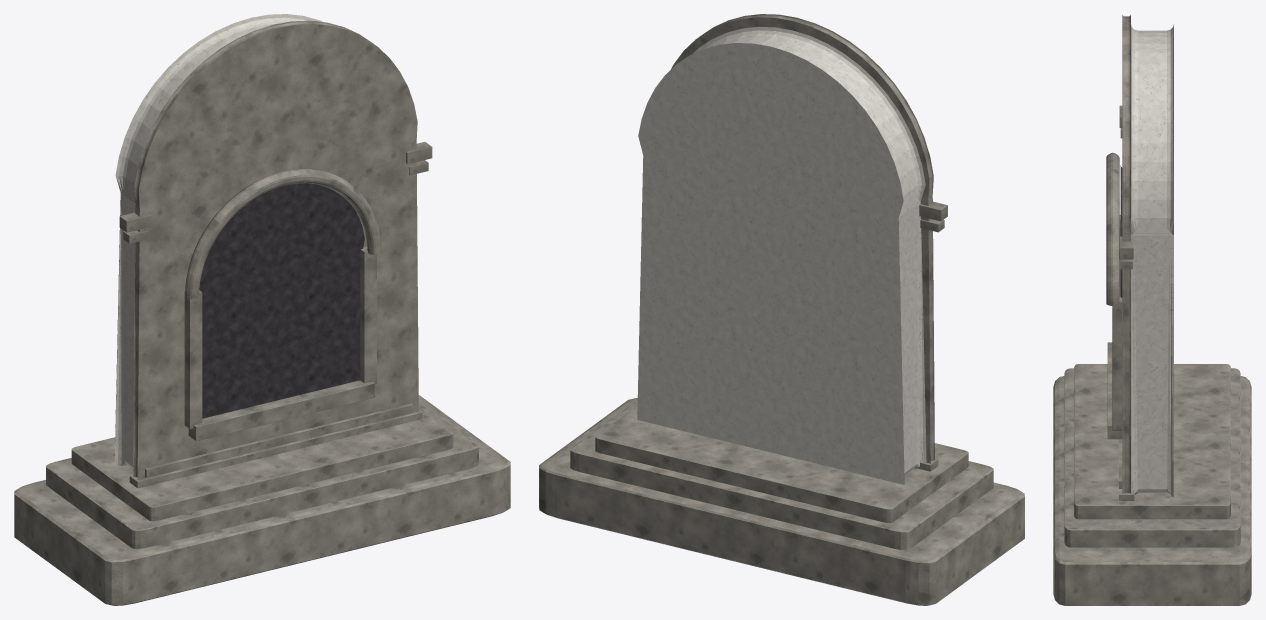
File: tumba.obj
The picture shows the model from 3 angles, left to right: view 1: azimuth 30°, elevation 25°; view 2: azimuth 150°, elevation 25°; view 3: azimuth 270°, elevation 25°; orthographic projection. The views are drawn at different scales.
Parts seen in each view (by area): view 1: Marco_exterior, Nicho_central, Base_inferior.001, Base_superior, Base_intermedia, Lapida_principal, Moldura_curva_del_nicho, Repisa_del_nicho, Moldura_inferior_2, Moldura_inferior_1, Marco_nicho_izquierdo, Marco_nicho_derecho; view 2: Lapida_principal, Base_inferior.001, Base_superior, Base_intermedia, Marco_exterior; view 3: Lapida_principal, Base_superior, Base_inferior.001, Base_intermedia, Marco_exterior, Moldura_curva_del_nicho, Marco_nicho_derecho, Repisa_del_nicho, Moldura_lateral_derecha_superior, Nicho_central.
Part boxes in pixels (x1,y1,x2,y2): Marco_exterior: (133, 20, 418, 479); Nicho_central: (199, 183, 364, 418); Base_inferior.001: (14, 395, 510, 605); Base_superior: (71, 407, 453, 521); Base_intermedia: (46, 401, 478, 548); Lapida_principal: (114, 14, 322, 469); Moldura_curva_del_nicho: (185, 169, 381, 299); Repisa_del_nicho: (188, 380, 375, 440); Moldura_inferior_2: (145, 403, 413, 477); Moldura_inferior_1: (129, 410, 422, 488); Marco_nicho_izquierdo: (184, 290, 202, 429); Marco_nicho_derecho: (360, 247, 376, 384); Lapida_principal: (637, 26, 926, 484); Base_inferior.001: (539, 398, 1024, 605); Base_superior: (595, 405, 968, 522); Base_intermedia: (570, 400, 993, 550); Marco_exterior: (671, 14, 934, 463); Lapida_principal: (1131, 24, 1173, 497); Base_superior: (1074, 364, 1230, 519); Base_inferior.001: (1053, 376, 1251, 605); Base_intermedia: (1064, 368, 1240, 547); Marco_exterior: (1122, 15, 1130, 493); Moldura_curva_del_nicho: (1106, 152, 1119, 305); Marco_nicho_derecho: (1112, 296, 1122, 430); Repisa_del_nicho: (1107, 342, 1122, 439); Moldura_lateral_derecha_superior: (1119, 236, 1133, 259); Nicho_central: (1120, 166, 1122, 297).
Size of the model in its own units: 5.2 by 6.22 by 2.3.
3 materials, 3 textured.
